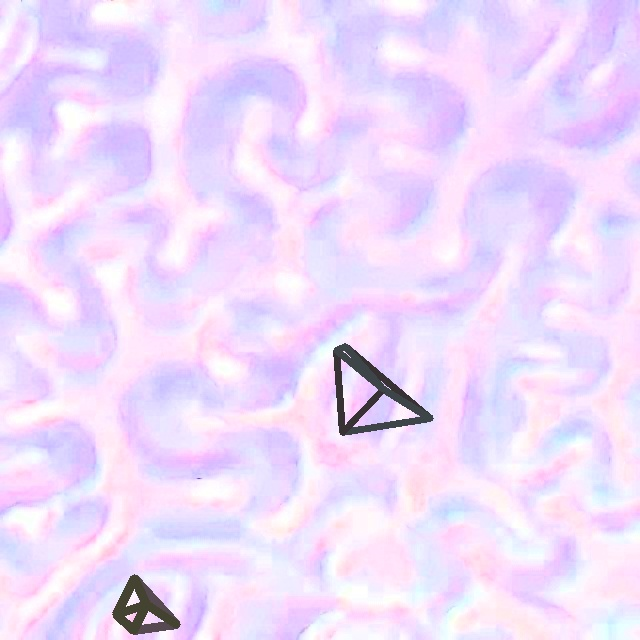open: (334, 343, 432, 435), (112, 574, 179, 633)
